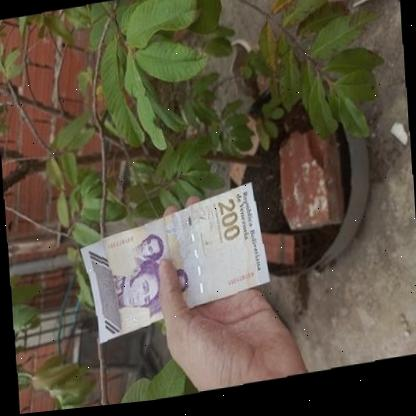two_hundred-front-vef: (76, 182, 272, 349)
